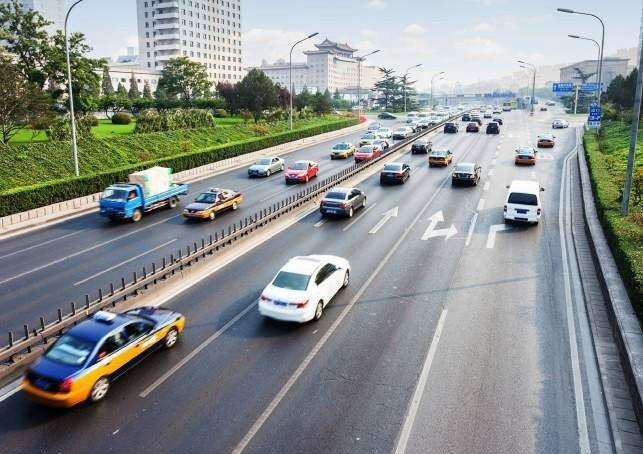car: (26, 299, 190, 404), (251, 242, 356, 340), (95, 169, 190, 225), (497, 174, 546, 236), (177, 181, 245, 224), (315, 180, 368, 232), (280, 153, 321, 189), (449, 158, 484, 196), (245, 149, 285, 182), (377, 161, 414, 194), (504, 139, 541, 171), (425, 139, 456, 174), (327, 137, 357, 165), (529, 129, 557, 155), (355, 142, 385, 162), (388, 123, 417, 143), (545, 113, 571, 135), (477, 121, 506, 139), (363, 123, 389, 141), (442, 118, 462, 140), (462, 119, 483, 136)
